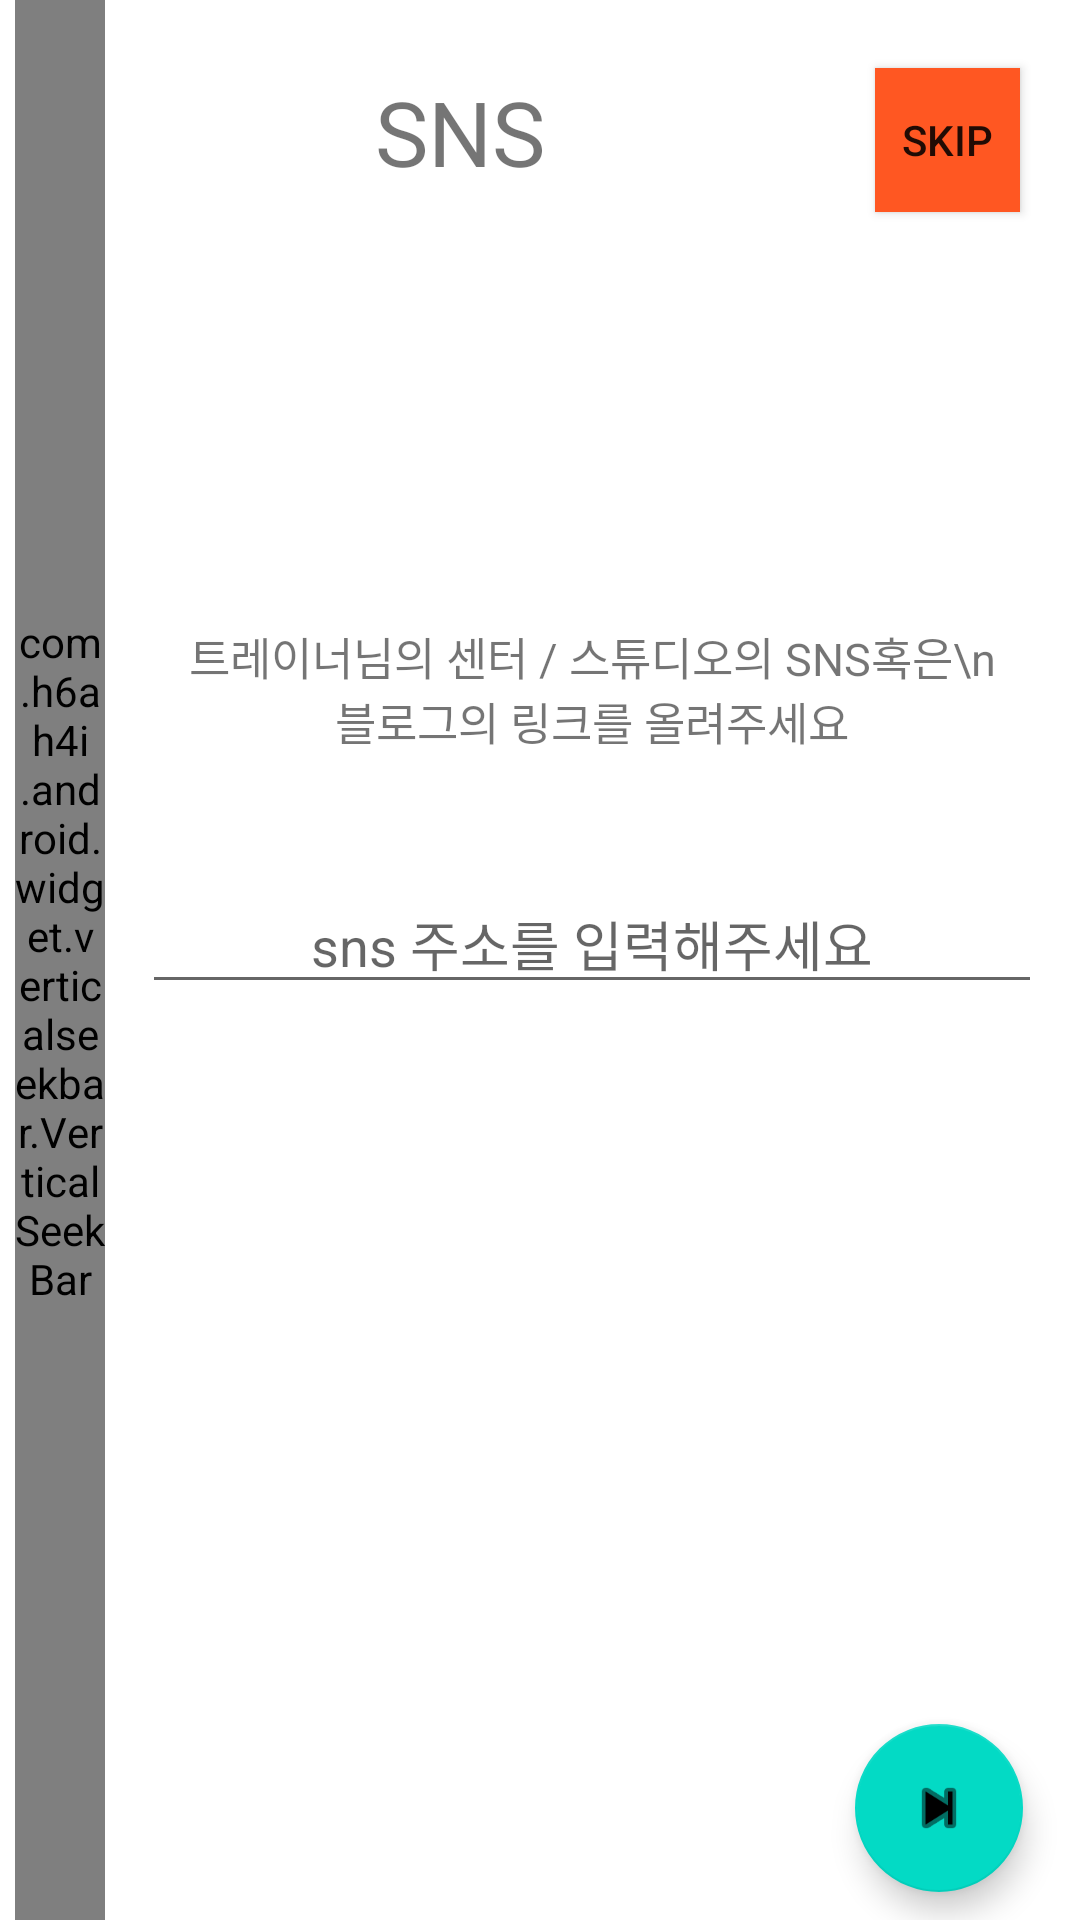

Where icons sit on this 1080px×1920px app screen, as (x1, y1, x2, y2):
next: (855, 1724, 1023, 1892)
